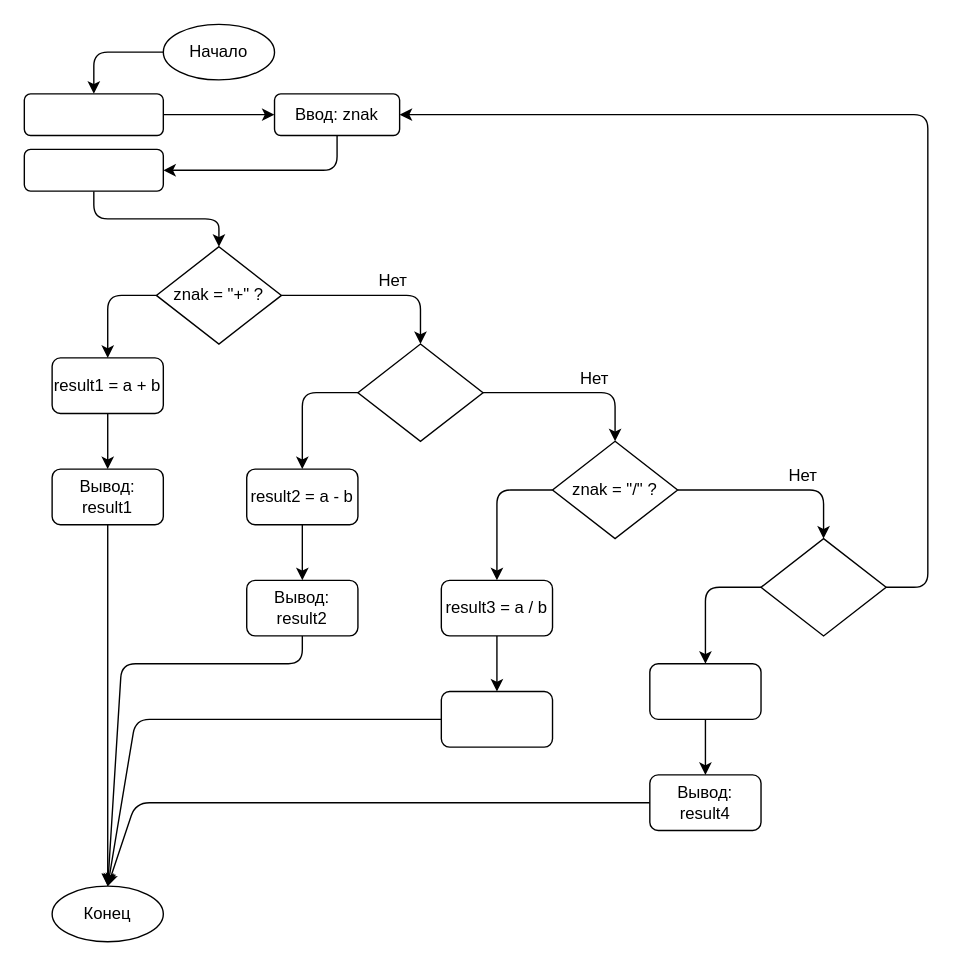
Some shapes in this 963 by 966 pixel diagram are drawn without their labels. Here are the shapes that lost their labels. From the top down, the centre of each, then its label:
pixel 93 114: Ввод: num1
pixel 93 169: Ввод: num2
pixel 420 392: znak = "-" ?
pixel 823 586: znak = " * " ?
pixel 704 690: result4 = a * b
pixel 496 718: Вывод: result3
